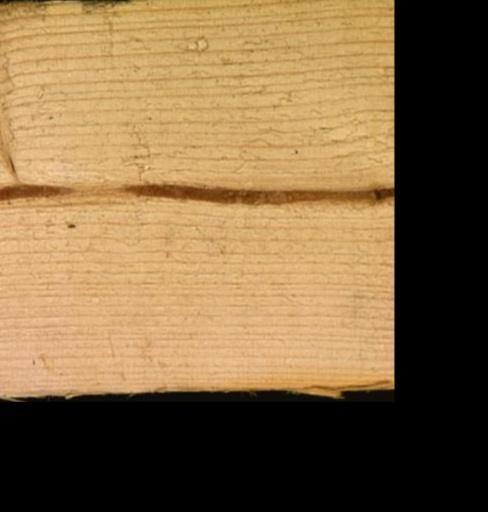wave: (275, 373, 393, 397)
